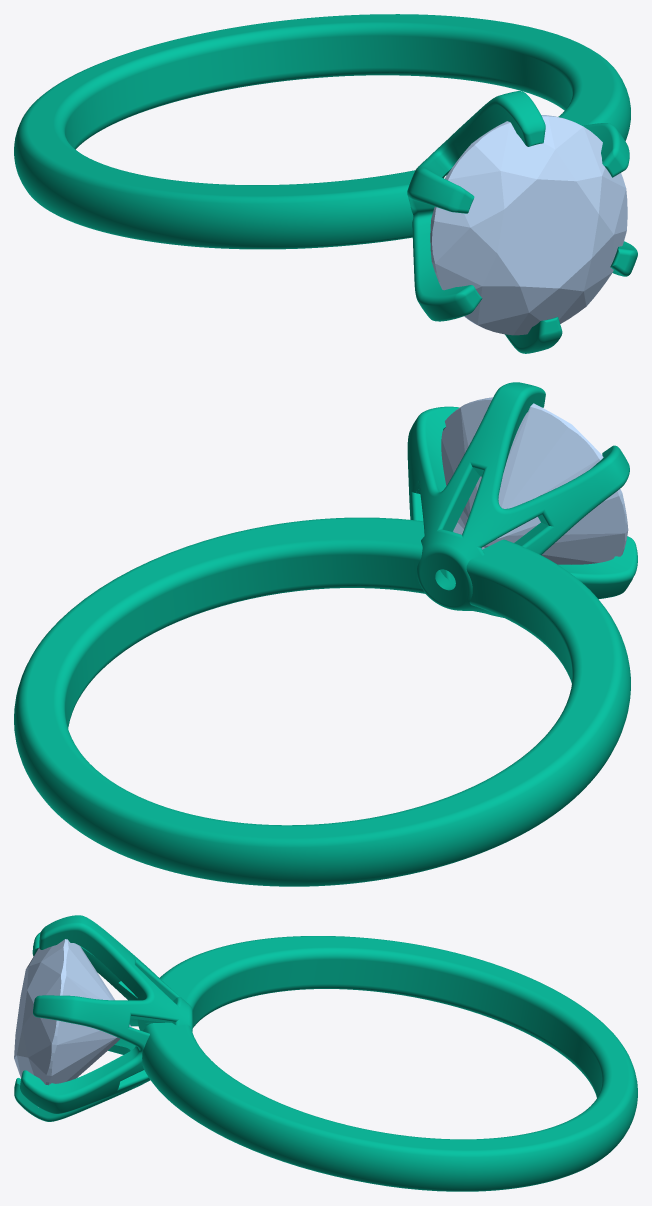
3 renders of one model, top to bottom at view 1: azimuth 30°, elevation 25°; view 2: azimuth 150°, elevation 25°; view 3: azimuth 270°, elevation 25°, orthographic. The views are drawn at different scales.
Visible parts, largest first — view 1: VR390(base).3dm, Diamond_Round; view 2: VR390(base).3dm, Diamond_Round; view 3: VR390(base).3dm, Diamond_Round.
Boxes of the visible parts, box(x1,y1,x2,y2) form: VR390(base).3dm: box(14, 14, 637, 353); Diamond_Round: box(430, 115, 627, 335); VR390(base).3dm: box(14, 382, 637, 886); Diamond_Round: box(441, 397, 628, 564); VR390(base).3dm: box(14, 915, 637, 1191); Diamond_Round: box(14, 939, 131, 1107).
Bounding box in the file's own units: 2.43 × 1.06 × 3.
